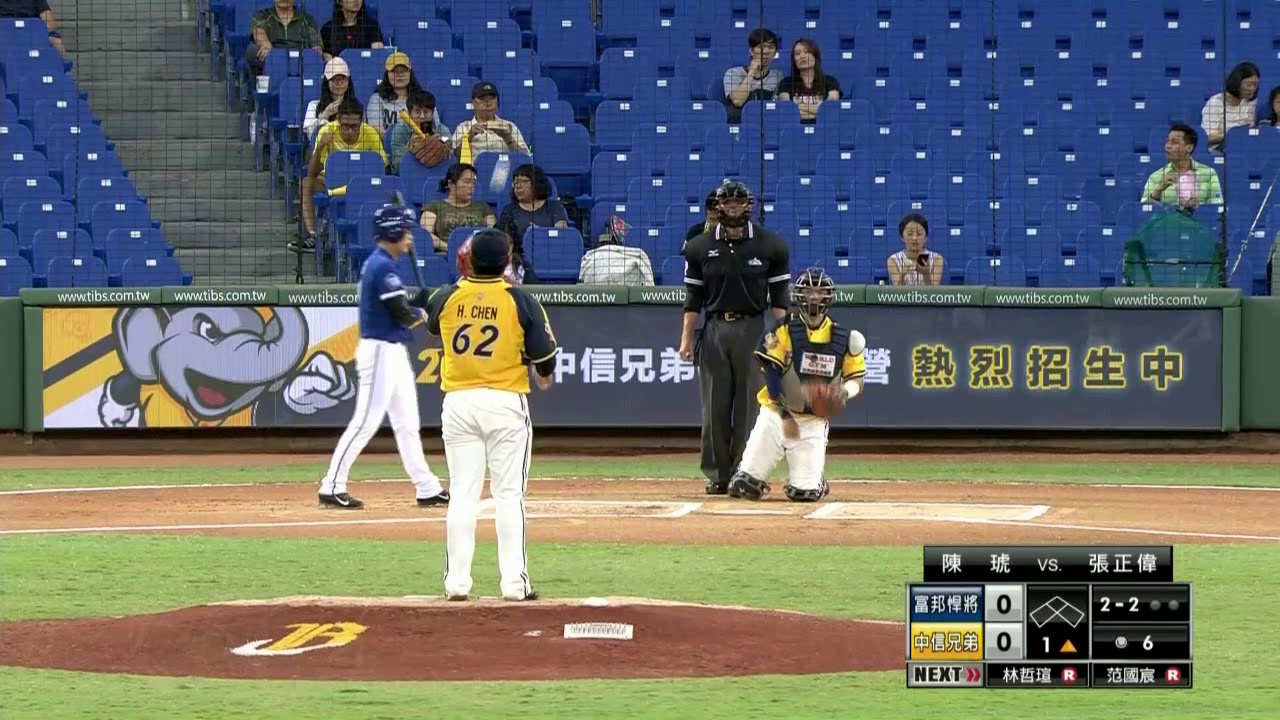ball: (495, 169, 505, 181)
base: (1027, 587, 1088, 633)
bat: (395, 194, 428, 300)
out: (1147, 588, 1183, 616)
score1: (989, 591, 1021, 617)
score2: (987, 628, 1027, 659)
session: (1030, 634, 1087, 661)
strikeball: (1094, 587, 1144, 619)
total: (1108, 626, 1157, 655)
